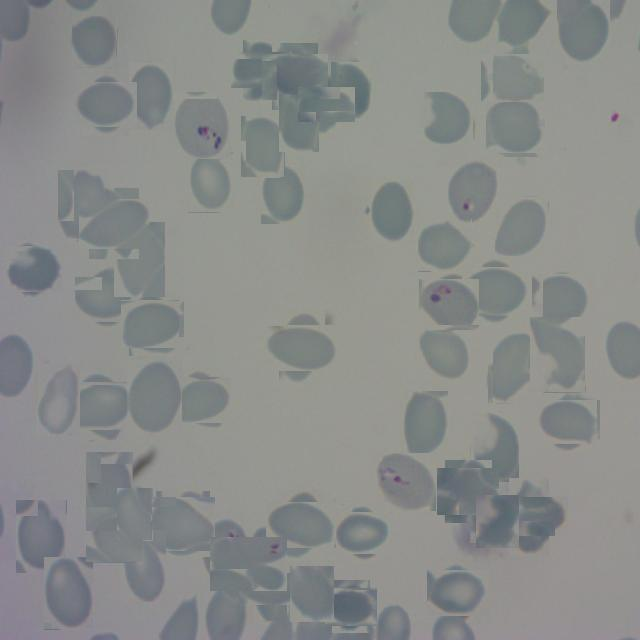leukocyte: (216, 531, 282, 597), (530, 317, 586, 393), (127, 360, 182, 434), (114, 222, 165, 297), (16, 500, 67, 574), (84, 193, 144, 254), (44, 557, 94, 630), (153, 494, 213, 554), (272, 318, 331, 378), (466, 262, 524, 321), (499, 488, 558, 546), (557, 0, 610, 64), (272, 496, 330, 554), (72, 377, 130, 435), (488, 334, 536, 404), (58, 170, 106, 240), (471, 413, 519, 482), (120, 530, 166, 602), (495, 197, 549, 257), (86, 452, 133, 520), (266, 49, 324, 104), (36, 364, 80, 436), (124, 296, 180, 352), (488, 99, 544, 155), (485, 50, 541, 106), (86, 507, 142, 563), (129, 63, 175, 131), (403, 391, 449, 458), (534, 272, 589, 327), (441, 464, 496, 519), (370, 180, 415, 245), (431, 566, 485, 620), (79, 78, 133, 132), (542, 395, 596, 449), (419, 92, 473, 146), (418, 219, 472, 272), (419, 325, 470, 381), (6, 242, 58, 296), (78, 274, 132, 326), (188, 152, 234, 213), (175, 374, 228, 426), (261, 163, 306, 224), (241, 116, 285, 178), (338, 508, 388, 558), (290, 566, 334, 622), (237, 46, 286, 95), (473, 497, 521, 546), (72, 16, 117, 68), (279, 94, 319, 152), (247, 566, 294, 614), (331, 62, 370, 118), (303, 81, 349, 128), (328, 584, 374, 630), (116, 488, 152, 541)
red blood cell: (174, 92, 232, 160), (374, 451, 436, 512), (422, 276, 478, 332)
